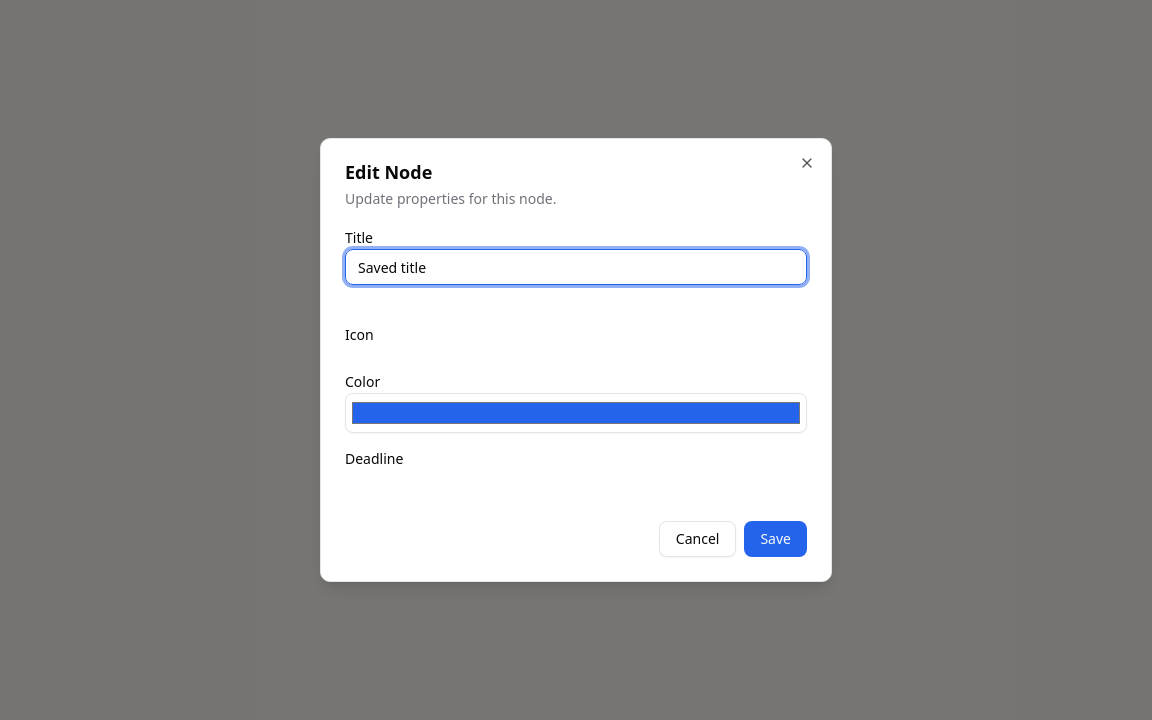
Test case: EditNodeDialog › a save the server refuses › shows the saved title inline and keeps the typed values
This screenshot has width=1152, height=720.
Replace the text in the field labelled "Title" with "Typed title" at (576, 267), box [345,249,807,285]
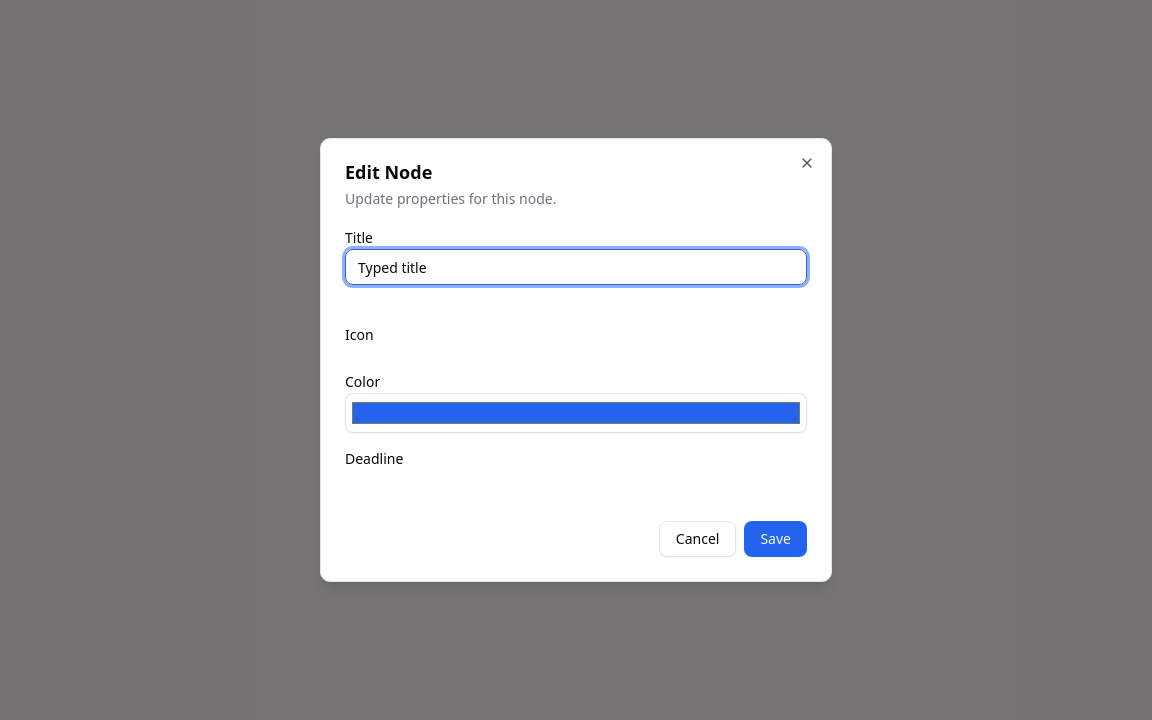
Click the button "Save" at (776, 539), box [744,521,807,557]
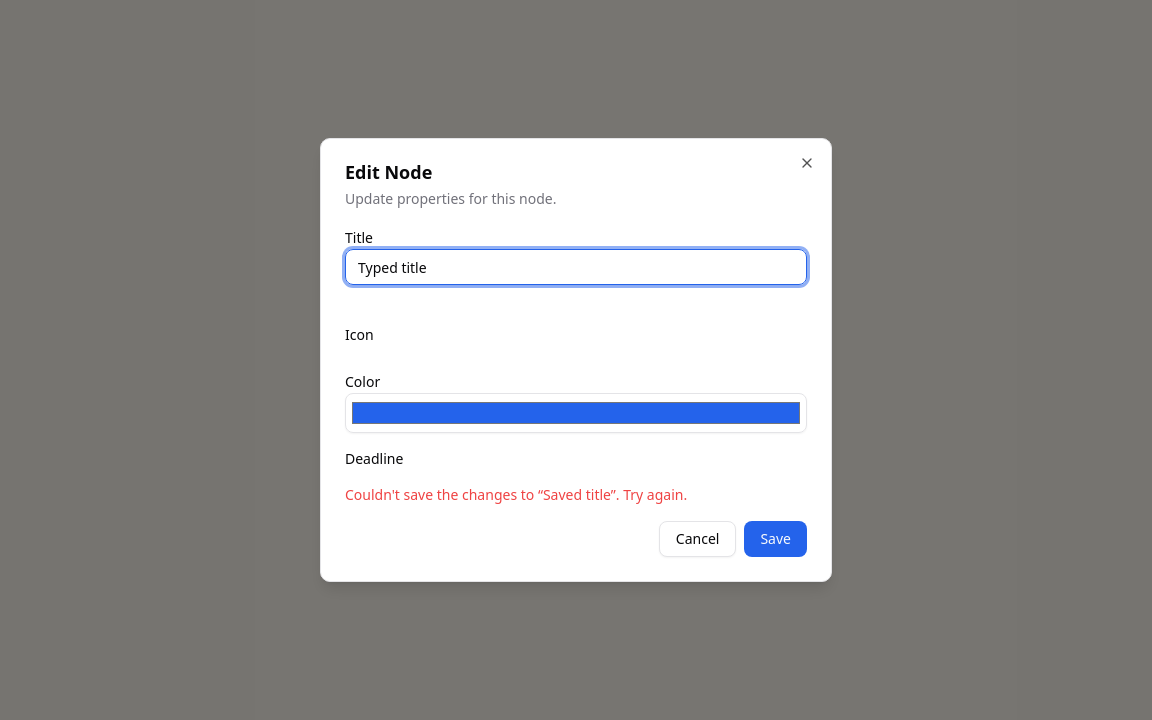
Check: the message reads "Couldn't save the changes to “Saved title”. Try again.", box [345,485,687,504]
